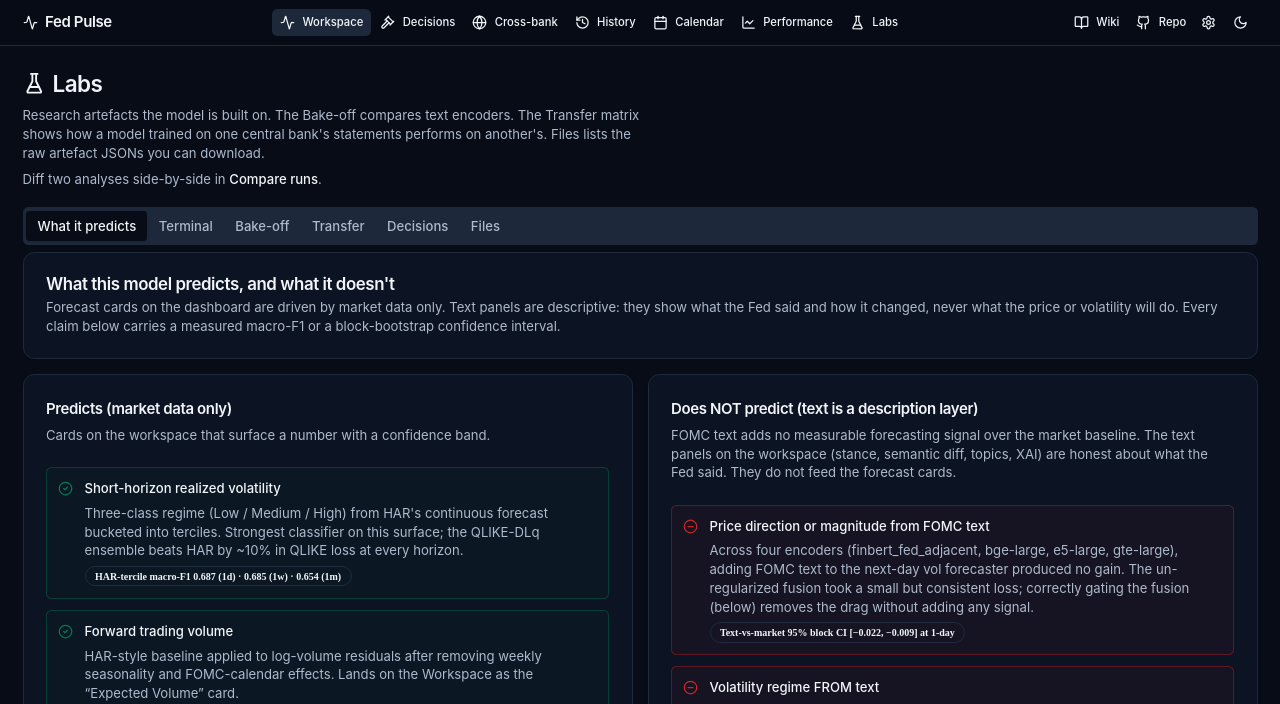
Test case: ResearchPage › renders the empty-state when no artefacts are present
The width and height of the screenshot is (1280, 704).
Click the tab "Bake-off" at (262, 226), box 224,211 -> 301,241
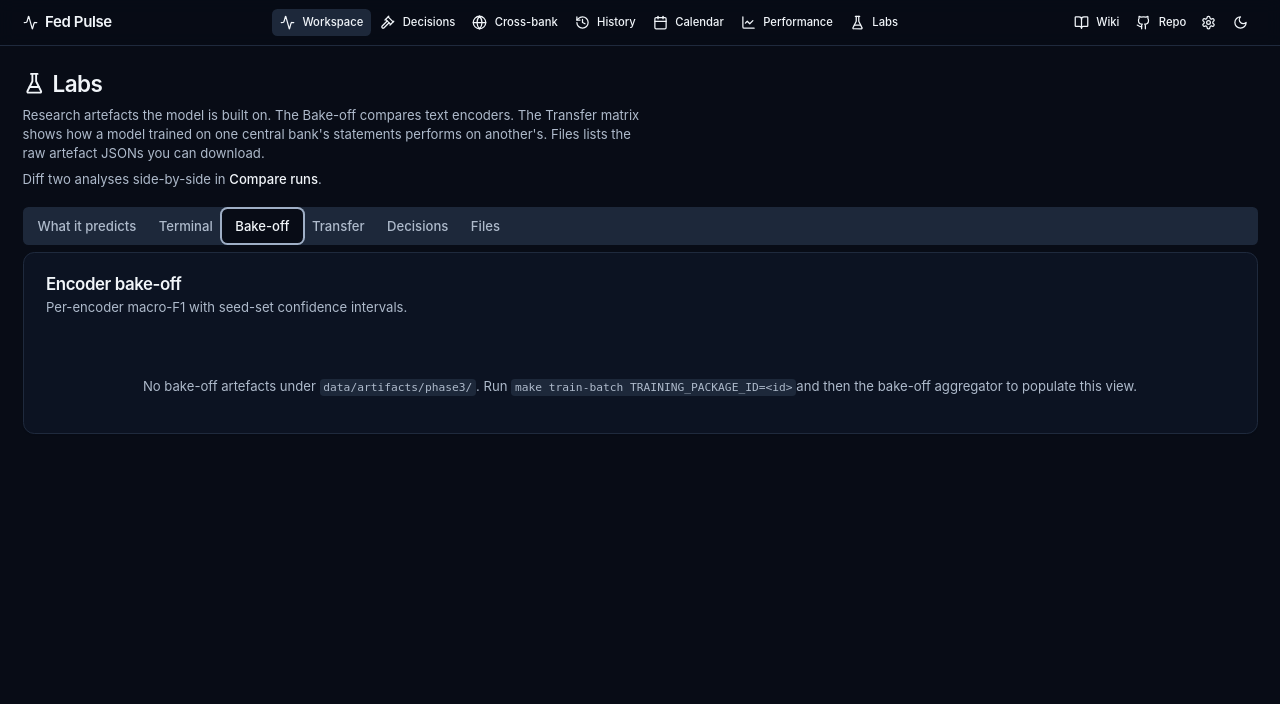
Result: the text "No bake-off artefacts" is shown at 143,378 -> 320,394
